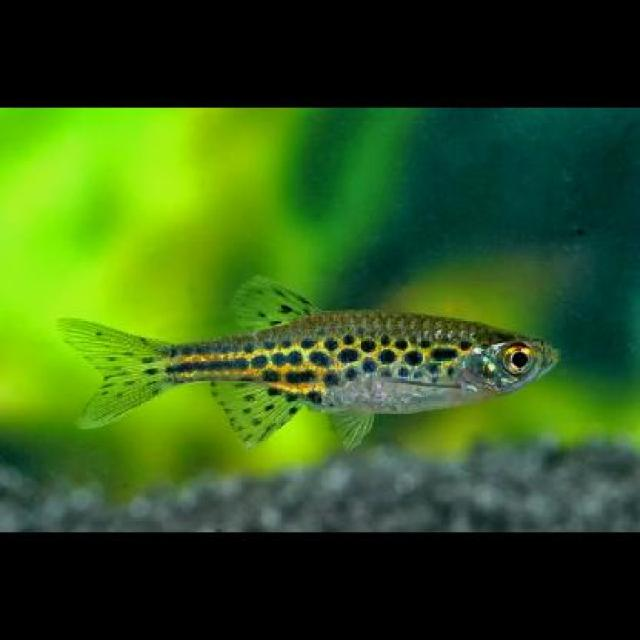ZebraFish: (55, 272, 557, 446)
